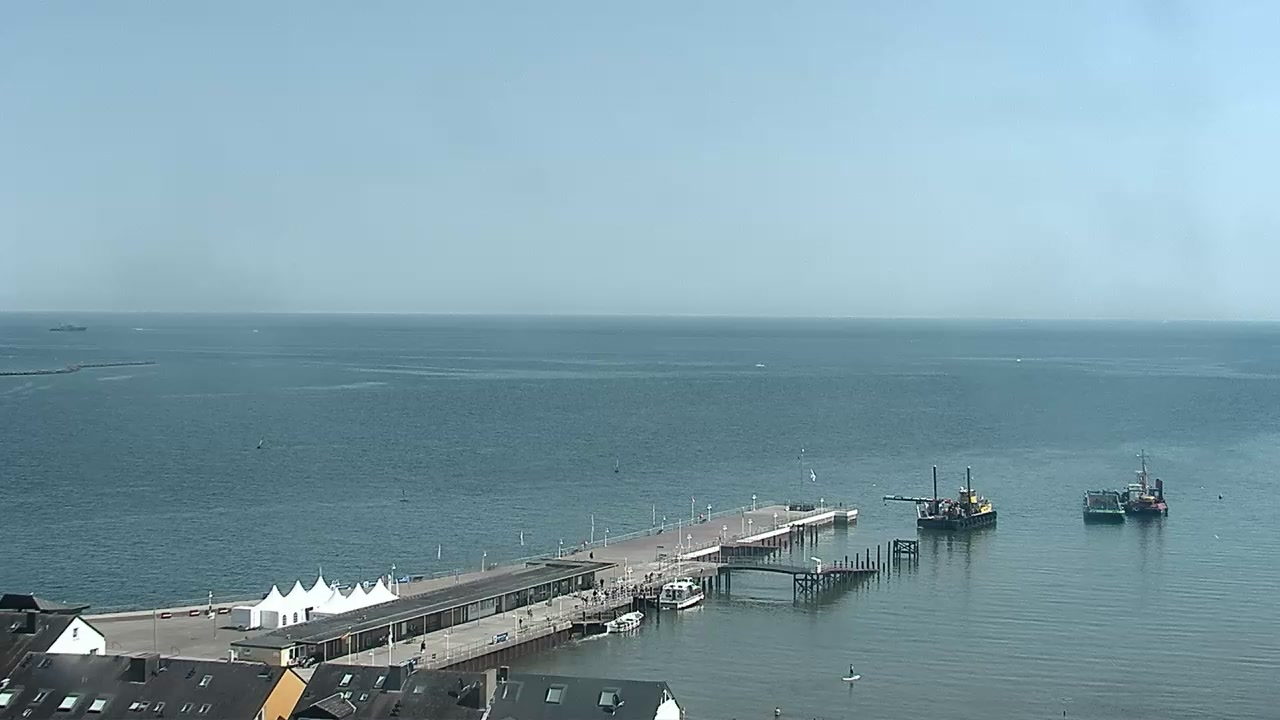human: (848, 662, 855, 677), (517, 614, 524, 628), (773, 705, 781, 716), (598, 576, 605, 588), (419, 641, 426, 653), (588, 549, 594, 560), (619, 582, 625, 593), (581, 594, 586, 606), (592, 588, 598, 598), (585, 596, 590, 608), (416, 637, 426, 639)
sea: (881, 463, 998, 531), (1120, 449, 1169, 518), (651, 574, 703, 609), (1080, 488, 1124, 522), (601, 608, 645, 632), (47, 321, 88, 332), (841, 673, 861, 680)
